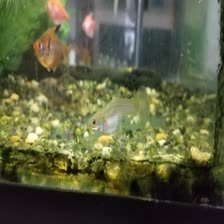Guppy: (83, 84, 143, 140)
Kiros: (29, 73, 85, 107)
Transparente: (29, 25, 78, 65)
